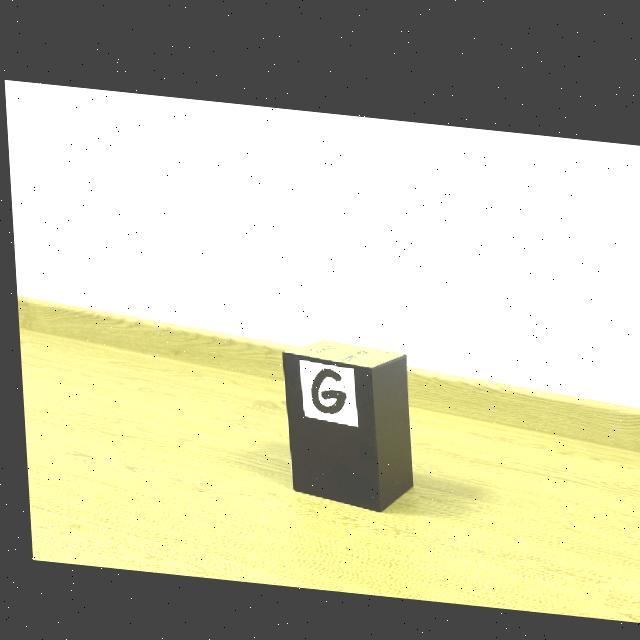G: (307, 362, 342, 408)
